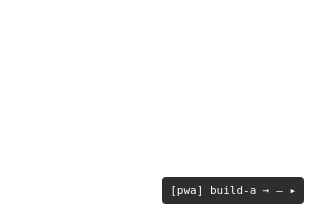
PwaUpdateDebugPanel › safely omits lastRemoteBuildId when null (renders em-dash, no crash, no leaked value)
Click the button at {"x": 233, "y": 190}, box [170, 183, 296, 198]
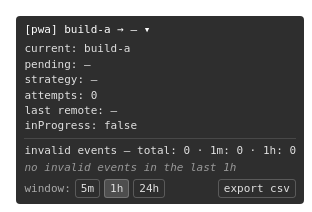
Expected: the text "last remote: —" is shown, [24, 104, 117, 117]
